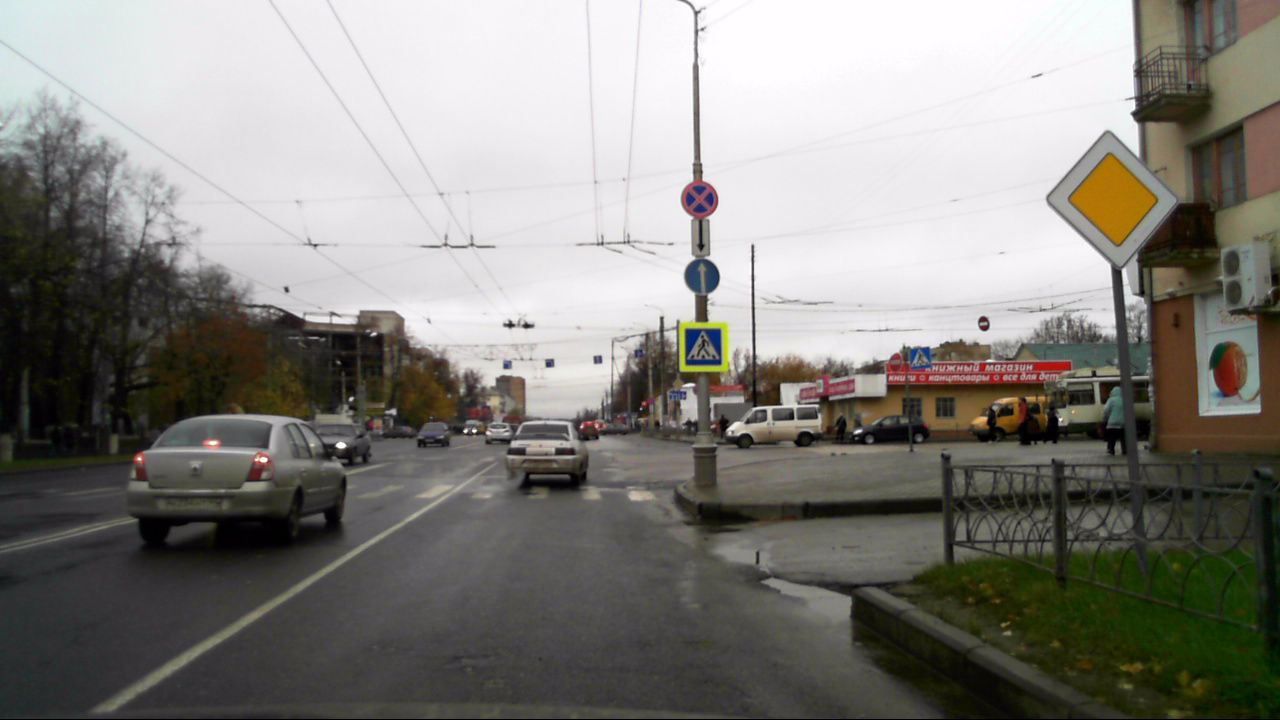No Parking: (680, 181, 718, 219)
